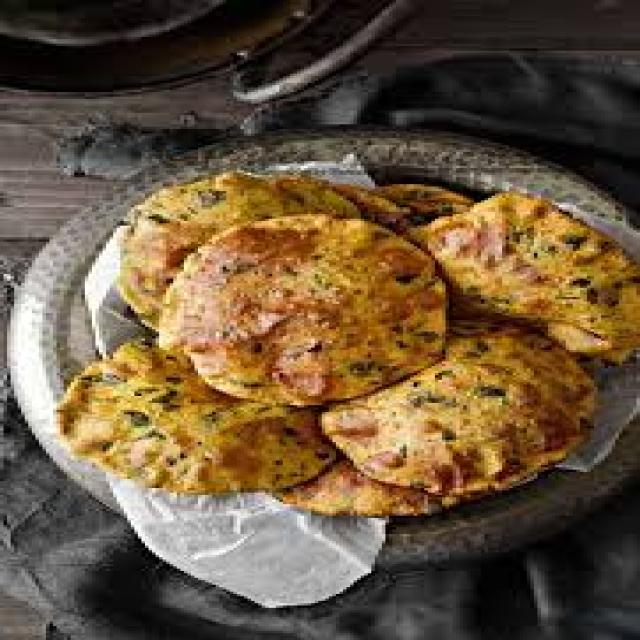POORI: (53, 172, 636, 516)
